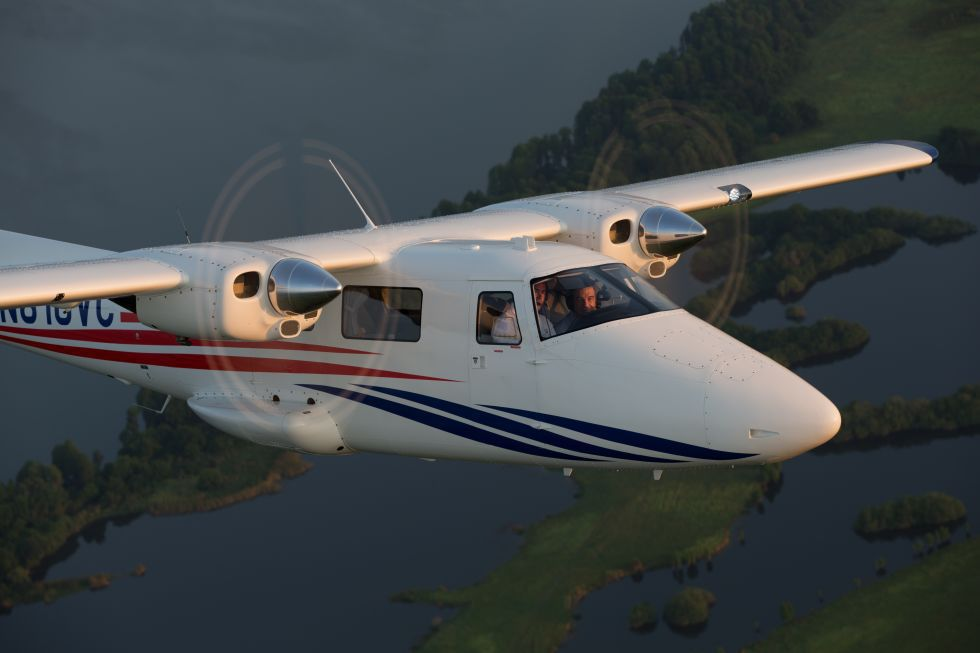Aeronef_commercial: (7, 119, 944, 513)
